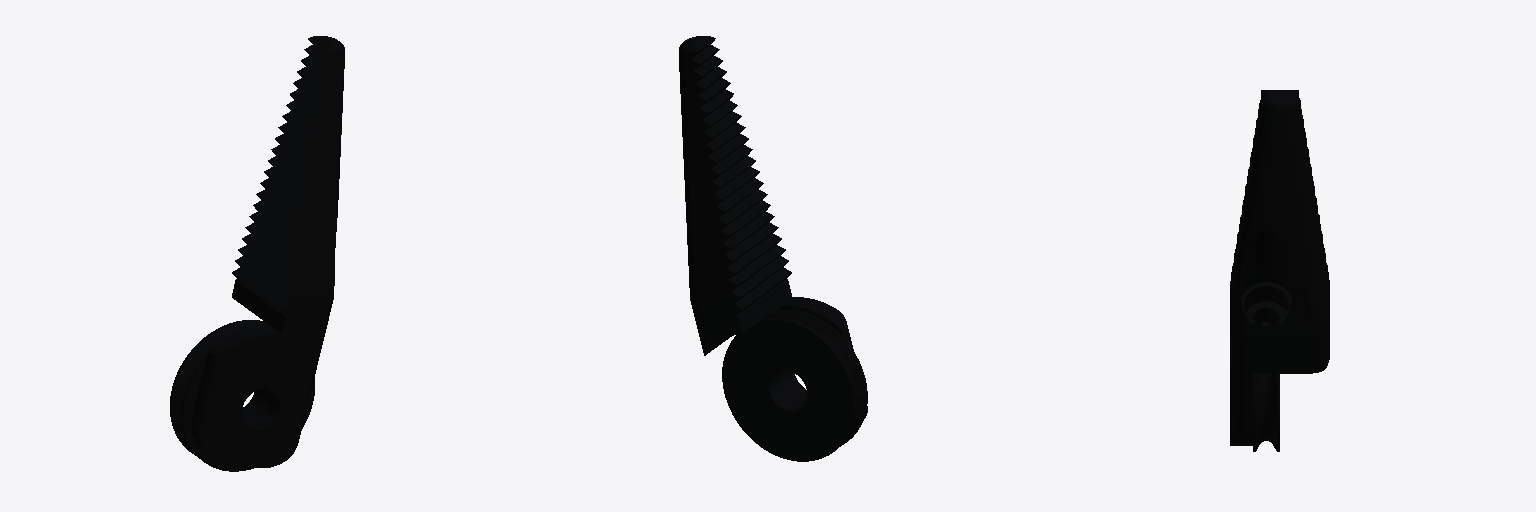
The model's file is grasper2_R.OBJ.
3 renders of one model, left to right at view 1: azimuth 30°, elevation 25°; view 2: azimuth 150°, elevation 25°; view 3: azimuth 270°, elevation 25°, orthographic.
Visible parts, largest first — view 1: /ambf/env/raven_2/grasper2_R; view 2: /ambf/env/raven_2/grasper2_R; view 3: /ambf/env/raven_2/grasper2_R.
Part boxes in pixels (left/top/right/bottom): /ambf/env/raven_2/grasper2_R: left=170, top=36, right=344, bottom=471; /ambf/env/raven_2/grasper2_R: left=679, top=36, right=867, bottom=461; /ambf/env/raven_2/grasper2_R: left=1230, top=90, right=1329, bottom=451.
Size of the model in its own units: 0.0111 by 0.0244 by 0.0056.